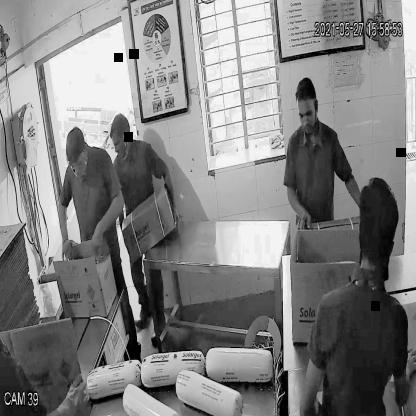no_goggles: (297, 104, 318, 125)
